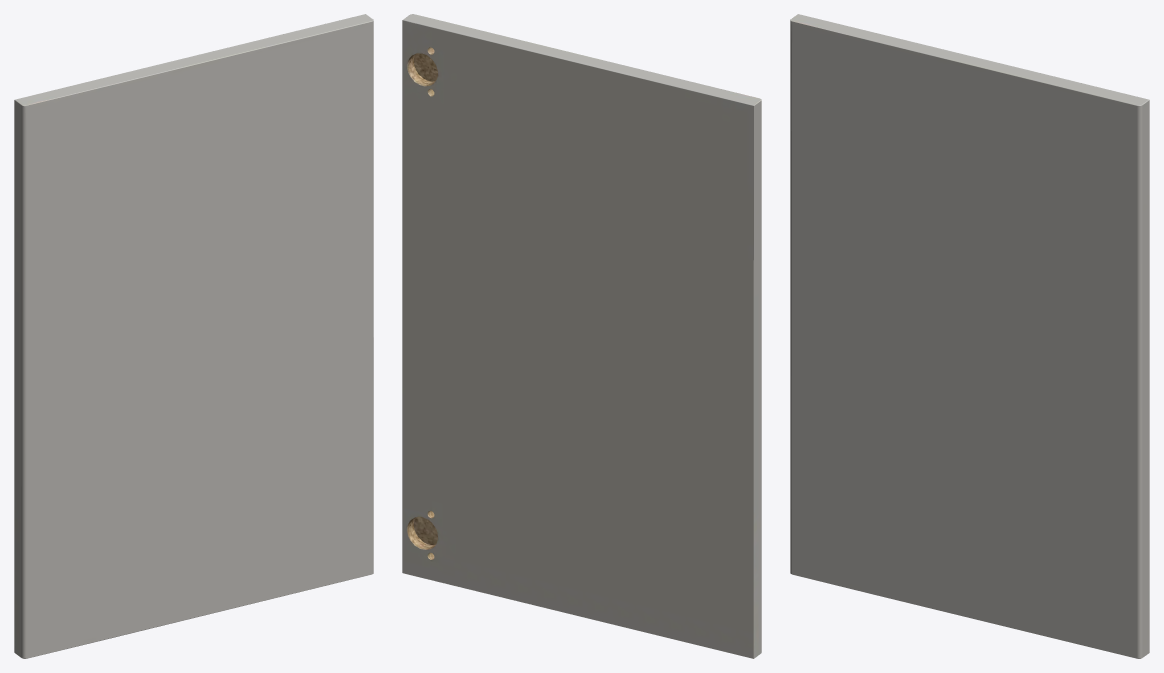
File: Ringhult60327137-40x60-scene-512.glb
3 renders of one model, left to right at view 1: azimuth 30°, elevation 25°; view 2: azimuth 150°, elevation 25°; view 3: azimuth 330°, elevation 25°, orthographic.
Visible parts, largest first — view 1: model; view 2: model; view 3: model.
Boxes of the visible parts, box(x1,y1,x2,y2) form: model: box(14, 14, 373, 658); model: box(402, 14, 761, 658); model: box(790, 14, 1149, 658).
Size of the model in its own units: 0.3971 by 0.597 by 0.018.
Materials: 1 (1 with a texture image).
